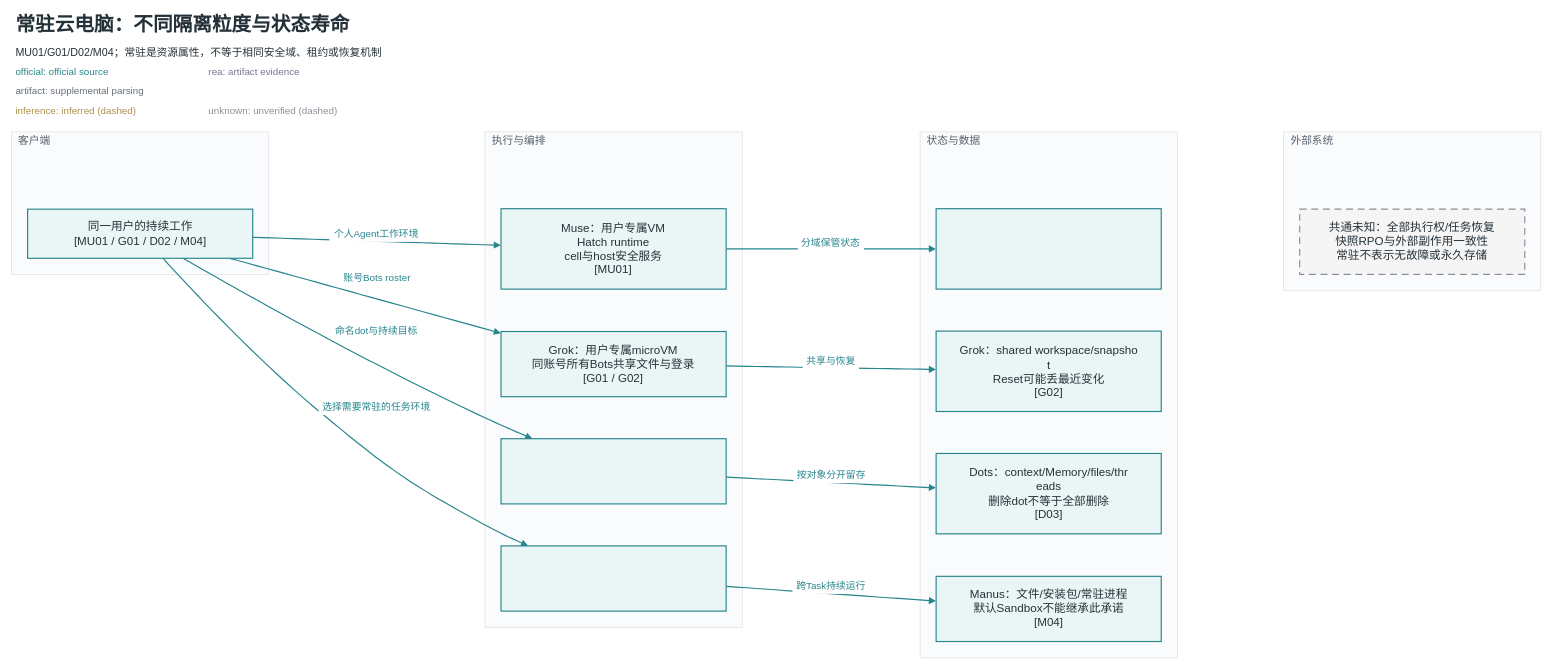
This 1553x670 diagram has some shape labels left out. Each missing label, with the centre of its shape:
Dots：dot自有云电脑 可独立委派Codex/Work任务 [D02]: pixel 613 471
Manus Cloud Computer 区别于默认临时Task Sandbox [M04]: pixel 613 578
Muse：Postgres/credential store 与runtime cell分域 [MU01]: pixel 1048 248
